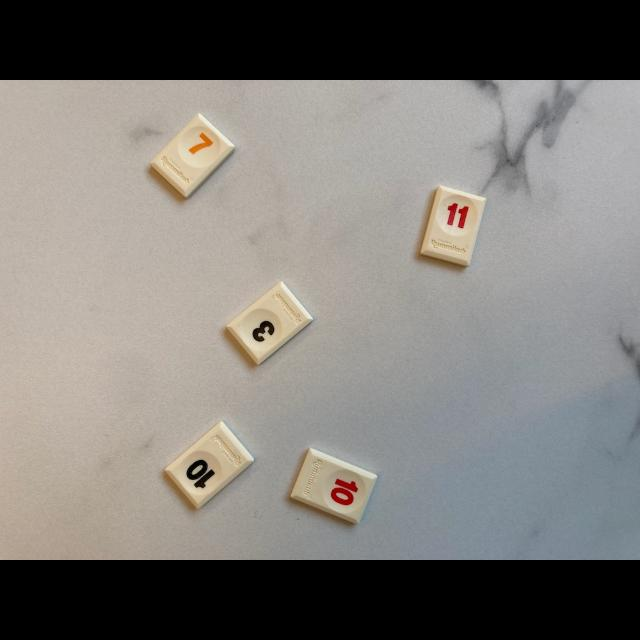black_10: (165, 421, 254, 509)
black_3: (226, 281, 312, 364)
orange_7: (151, 114, 235, 198)
red_10: (291, 449, 378, 524)
red_11: (420, 185, 486, 266)
